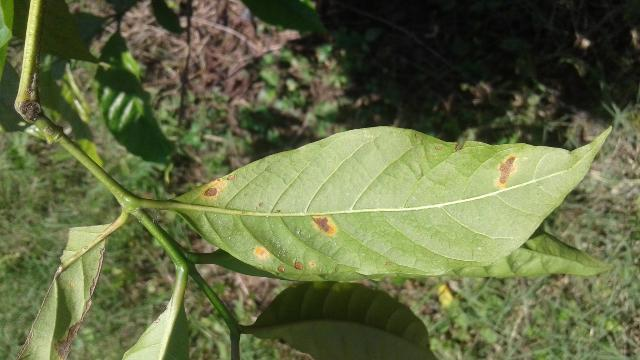rust_level_2: (169, 122, 616, 285)
